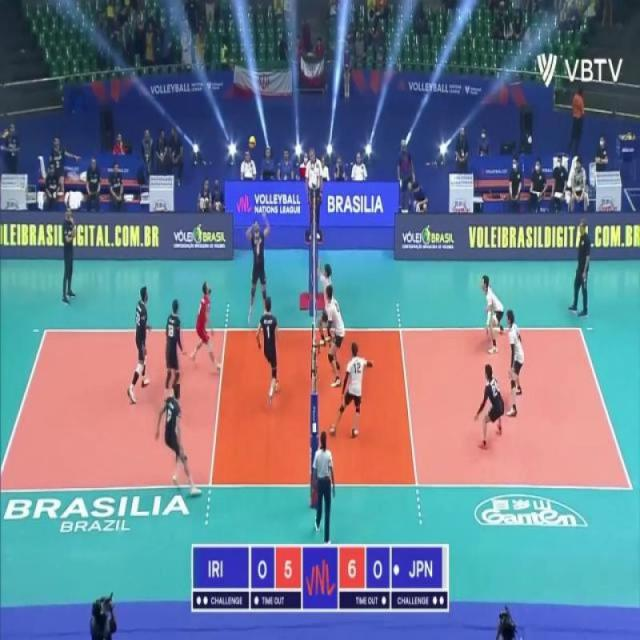volleyball: (248, 134, 257, 150), (626, 131, 635, 141), (2, 128, 9, 138), (622, 134, 628, 142)
